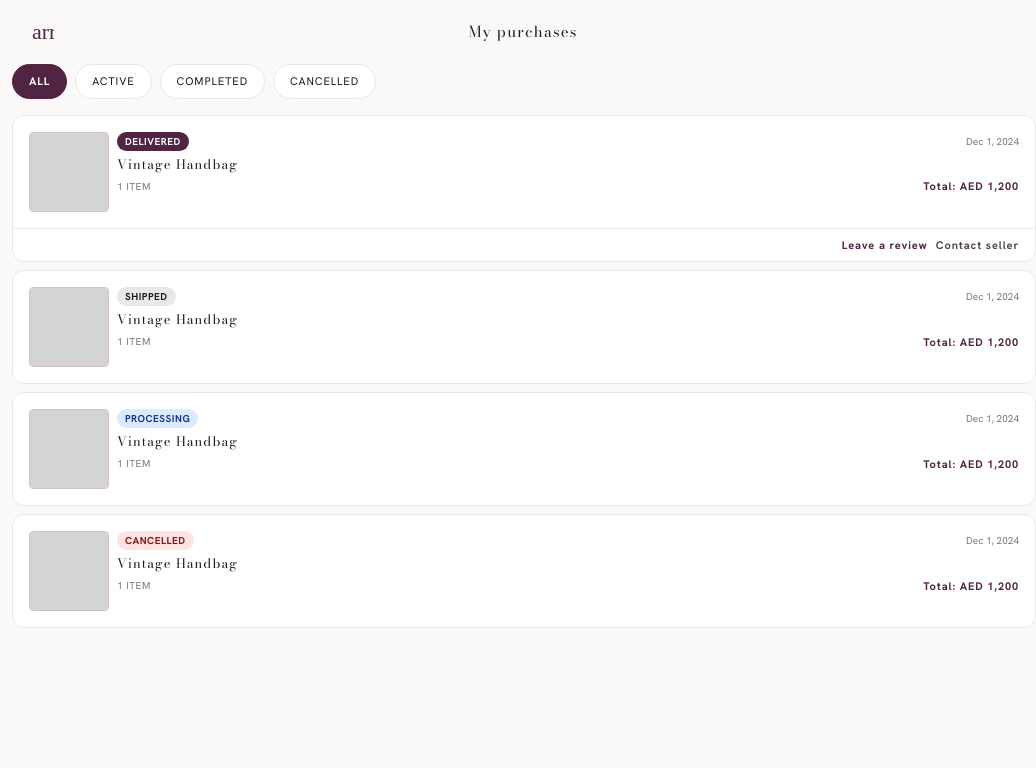
MyPurchasesView (C-16) › 'Active' filter shows only processing + shipped
Click the tab "Active". click: click(113, 81)
box: 75,64 -> 152,98
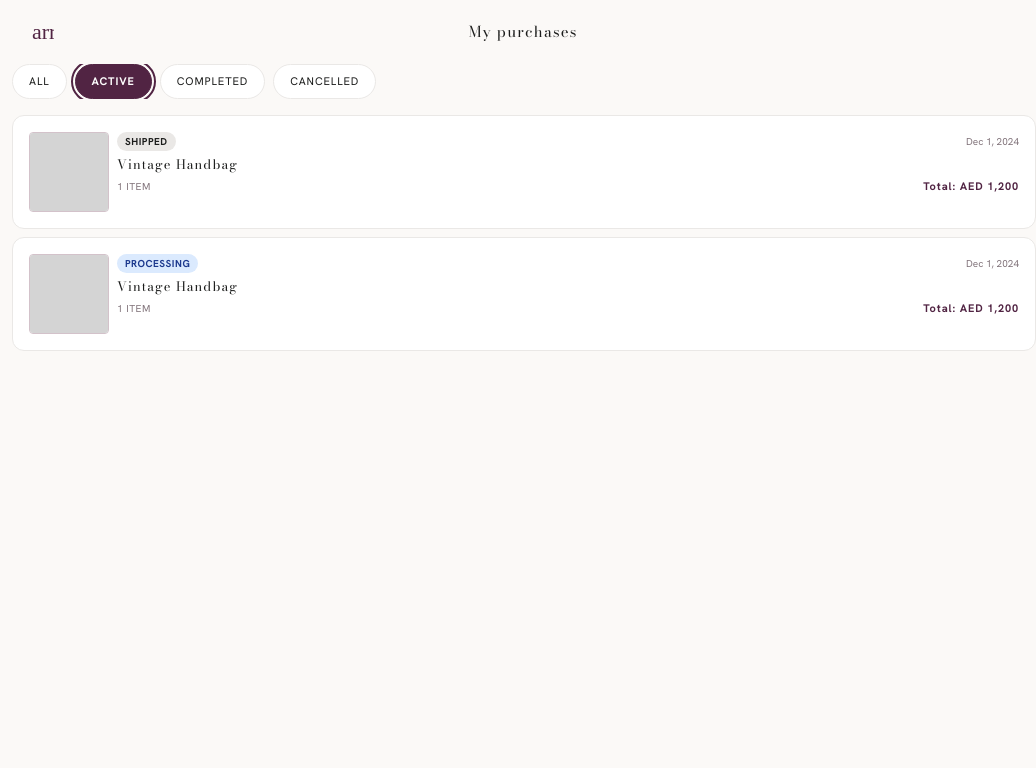
Expected: the number of headings "Vintage Handbag" is 2, 117,154 -> 238,174; 117,276 -> 238,296
